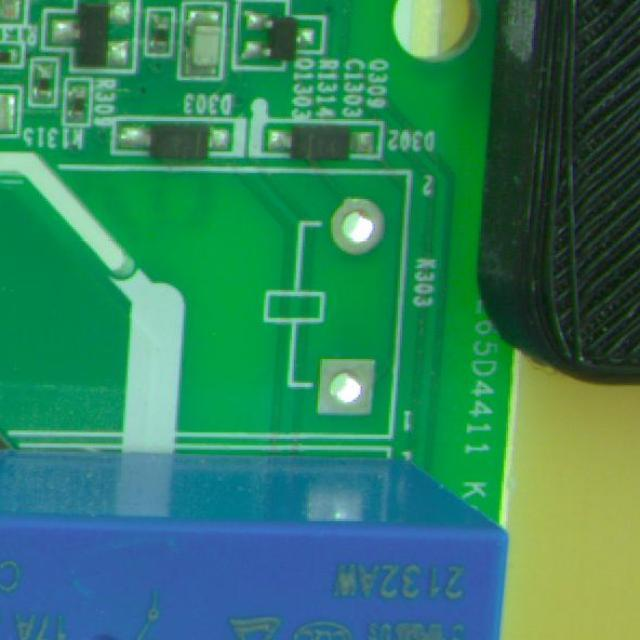Insufficient solder: (316, 342, 402, 430), (324, 190, 390, 249)
